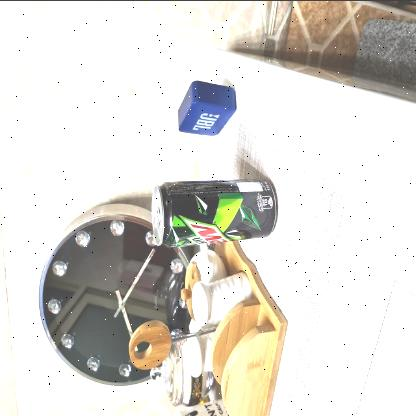Can: (147, 173, 282, 249)
